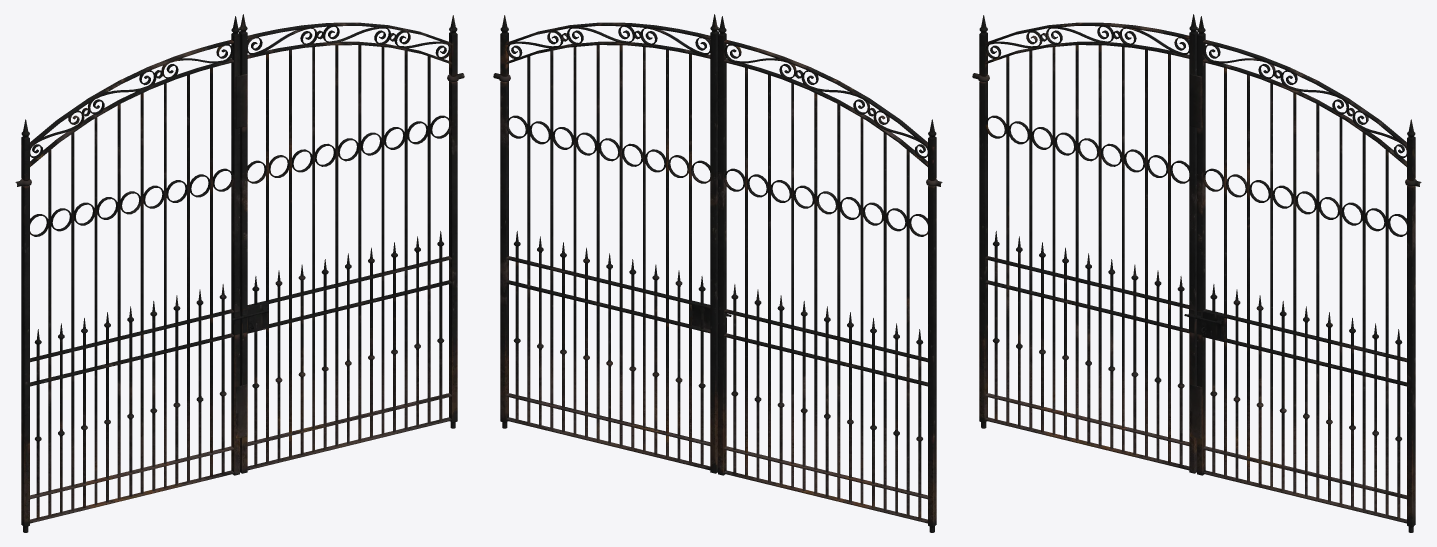
Rendered from large_iron_gate.glb.
The picture shows the model from 3 angles, left to right: view 1: azimuth 30°, elevation 25°; view 2: azimuth 150°, elevation 25°; view 3: azimuth 330°, elevation 25°; orthographic projection.
Visible parts, largest first — view 1: large_iron_gate_right_door, large_iron_gate_left_door; view 2: large_iron_gate_left_door, large_iron_gate_right_door; view 3: large_iron_gate_right_door, large_iron_gate_left_door.
Part boxes in pixels (bbox=[...]): large_iron_gate_right_door: bbox=[235, 14, 457, 473]; large_iron_gate_left_door: bbox=[21, 16, 241, 532]; large_iron_gate_left_door: bbox=[718, 16, 936, 532]; large_iron_gate_right_door: bbox=[500, 14, 718, 473]; large_iron_gate_right_door: bbox=[1190, 16, 1415, 532]; large_iron_gate_left_door: bbox=[979, 14, 1197, 473].
Size of the model in its own units: 2.95 by 2.93 by 0.0973.
1 material, 1 textured.
